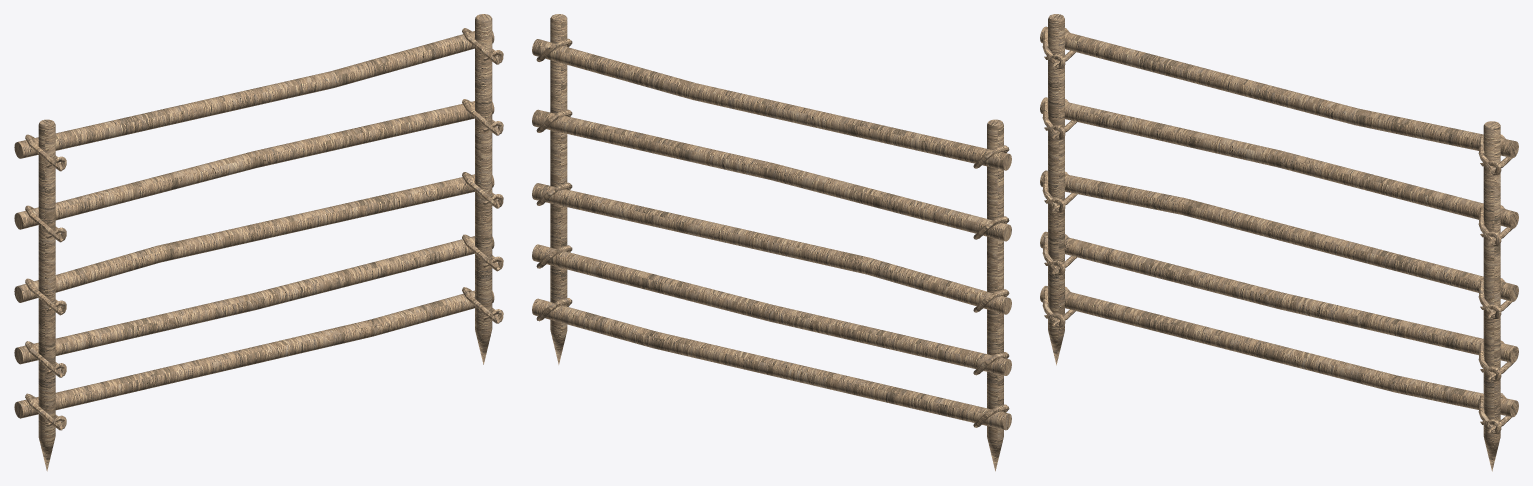
The model's file is GardGradinaFlori.fbx.
3 renders of one model, left to right at view 1: azimuth 30°, elevation 25°; view 2: azimuth 150°, elevation 25°; view 3: azimuth 330°, elevation 25°, orthographic.
Parts seen in each view (by area): view 1: SM_Fence; view 2: SM_Fence; view 3: SM_Fence.
Boxes of the visible parts, bbox=[...] form: SM_Fence: bbox=[14, 14, 503, 471]; SM_Fence: bbox=[532, 14, 1011, 471]; SM_Fence: bbox=[1040, 14, 1518, 471].
Size of the model in its own units: 180 by 15.62 by 128.
Materials: 1 (1 with a texture image).
